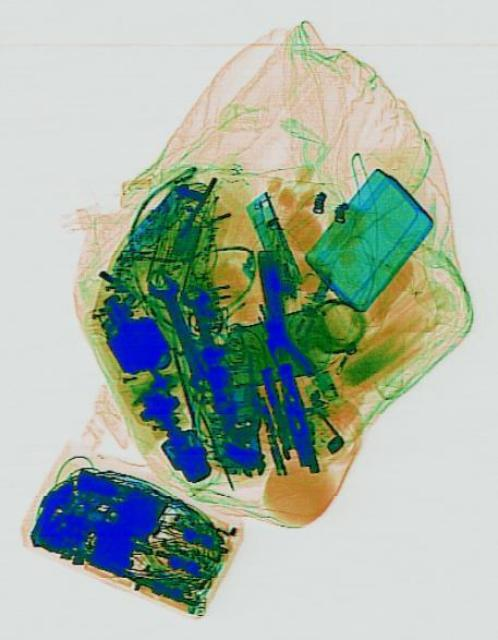Wrench: (141, 266, 216, 398), (174, 278, 238, 418)
